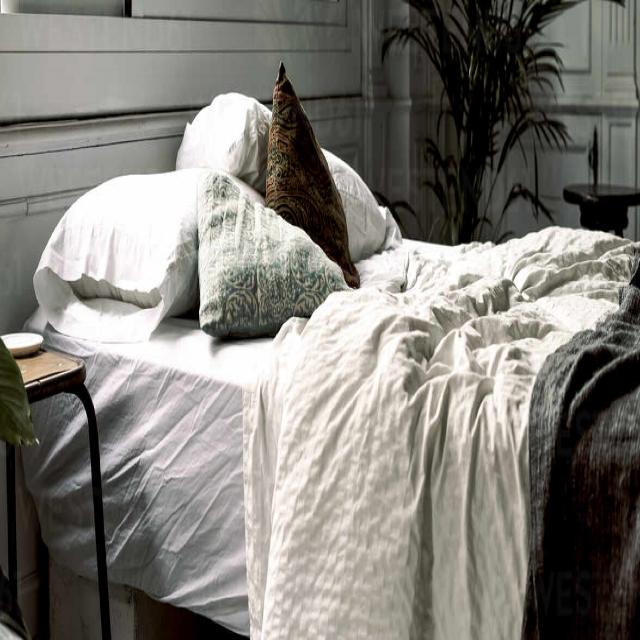bed: (50, 92, 640, 614)
